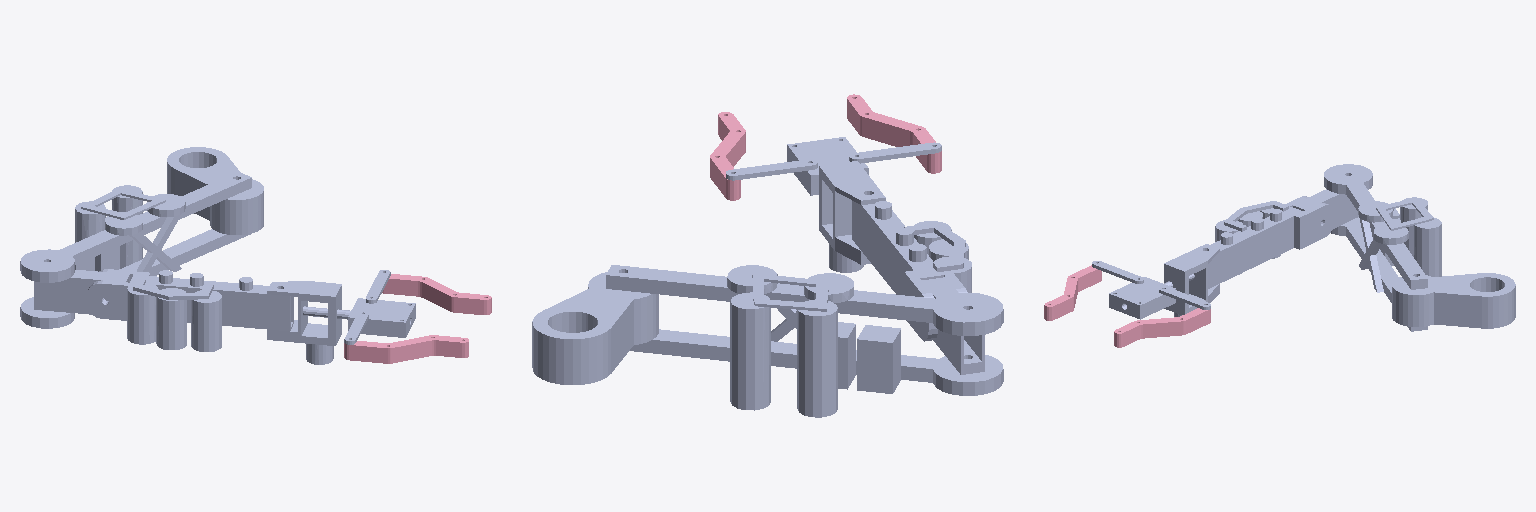
robot.urdf — brc_arm_description:
<?xml version="1.0" encoding="utf-8"?>
<!-- This URDF was automatically created by SolidWorks to URDF Exporter! Originally created by [author] ([email redacted]) 
     Commit Version: 1.6.0-4-g7f85cfe  Build Version: 1.6.7995.38578
     For more information, please see http://wiki.ros.org/sw_urdf_exporter -->
<robot
  name="brc_arm_description">
  <link
    name="base_link">
    <inertial>
      <origin
        xyz="-0.2365 -0.11407 0.091275"
        rpy="0 0 0" />
      <mass
        value="127.99" />
      <inertia
        ixx="11.646"
        ixy="0.74605"
        ixz="0.11702"
        iyy="17.633"
        iyz="0.24149"
        izz="13.254" />
    </inertial>
    <visual>
      <origin
        xyz="0 0 0"
        rpy="0 0 0" />
      <geometry>
        <mesh
          filename="package://brc_arm_description/meshes/base_link.STL" />
      </geometry>
      <material
        name="">
        <color
          rgba="0.79216 0.81961 0.93333 1" />
      </material>
    </visual>
    <collision>
      <origin
        xyz="0 0 0"
        rpy="0 0 0" />
      <geometry>
        <mesh
          filename="package://brc_arm_description/meshes/base_link.STL" />
      </geometry>
    </collision>
  </link>
  <link
    name="carriage_link">
    <inertial>
      <origin
        xyz="2.5422E-18 0.025 0.053905"
        rpy="0 0 0" />
      <mass
        value="0.44772" />
      <inertia
        ixx="0.001099"
        ixy="8.147E-21"
        ixz="1.4734E-20"
        iyy="0.0011932"
        iyz="-4.9973E-22"
        izz="0.00028077" />
    </inertial>
    <visual>
      <origin
        xyz="0 0 0"
        rpy="0 0 0" />
      <geometry>
        <mesh
          filename="package://brc_arm_description/meshes/carriage_link.STL" />
      </geometry>
      <material
        name="">
        <color
          rgba="0.79216 0.81961 0.93333 1" />
      </material>
    </visual>
    <collision>
      <origin
        xyz="0 0 0"
        rpy="0 0 0" />
      <geometry>
        <mesh
          filename="package://brc_arm_description/meshes/carriage_link.STL" />
      </geometry>
    </collision>
  </link>
  <joint
    name="carriage_joint"
    type="prismatic">
    <origin
      xyz="0 0 0.065"
      rpy="1.5708 0 0" />
    <parent
      link="base_link" />
    <child
      link="carriage_link" />
    <axis
      xyz="0 1 0" />
    <limit
      lower="0"
      upper="0.885"
      effort="0"
      velocity="0" />
    <command_interface name="position" />
    <command_interface name="velocity" />
    <state_interface name="position">
      <!-- <param name="initial_value">${initial_positions['carriage_joint']}</param> -->
    </state_interface>
    <state_interface name="velocity" />
  </joint>
  <link
    name="midarm1_link">
    <inertial>
      <origin
        xyz="-0.20356 0.024067 -0.023364"
        rpy="0 0 0" />
      <mass
        value="0.8362" />
      <inertia
        ixx="0.0015195"
        ixy="-0.00010292"
        ixz="0.00024052"
        iyy="0.007027"
        iyz="-9.3176E-05"
        izz="0.0071837" />
    </inertial>
    <visual>
      <origin
        xyz="0 0 0"
        rpy="0 0 0" />
      <geometry>
        <mesh
          filename="package://brc_arm_description/meshes/midarm1_link.STL" />
      </geometry>
      <material
        name="">
        <color
          rgba="0.79216 0.81961 0.93333 1" />
      </material>
    </visual>
    <collision>
      <origin
        xyz="0 0 0"
        rpy="0 0 0" />
      <geometry>
        <mesh
          filename="package://brc_arm_description/meshes/midarm1_link.STL" />
      </geometry>
    </collision>
  </link>
  <joint
    name="midarm1_joint"
    type="revolute">
    <origin
      xyz="0 0 0.1"
      rpy="0 0.2793 0" />
    <parent
      link="carriage_link" />
    <child
      link="midarm1_link" />
    <axis
      xyz="0 1 0" />
    <limit
      lower="0"
      upper="2.7423"
      effort="0"
      velocity="0" />
    <command_interface name="position" />
    <command_interface name="velocity" />
    <state_interface name="position">
      <!-- <param name="initial_value">${initial_positions['midarm1_joint']}</param> -->
    </state_interface>
    <state_interface name="velocity" />
  </joint>
  <link
    name="midarm2_link">
    <inertial>
      <origin
        xyz="0.0437798591057959 0.0206817493001328 2.4980018054066E-16"
        rpy="0 0 0" />
      <mass
        value="0.0646775902886998" />
      <inertia
        ixx="2.3728145359128E-05"
        ixy="-1.49350689133807E-06"
        ixz="1.33407689192552E-19"
        iyy="7.7948360762991E-05"
        iyz="1.18849310411619E-20"
        izz="9.1312862306253E-05" />
    </inertial>
    <visual>
      <origin
        xyz="0 0 0"
        rpy="0 0 0" />
      <geometry>
        <mesh
          filename="package://brc_arm_description/meshes/midarm2_link.STL" />
      </geometry>
      <material
        name="">
        <color
          rgba="0.792156862745098 0.819607843137255 0.933333333333333 1" />
      </material>
    </visual>
    <collision>
      <origin
        xyz="0 0 0"
        rpy="0 0 0" />
      <geometry>
        <mesh
          filename="package://brc_arm_description/meshes/midarm2_link.STL" />
      </geometry>
    </collision>
  </link>
  <joint
    name="midarm2_joint"
    type="revolute">
    <origin
      xyz="-0.35 0 0"
      rpy="0 -1.000 0" />
    <parent
      link="midarm1_link" />
    <child
      link="midarm2_link" />
    <axis
      xyz="0 1 0" />
    <limit
      lower="-4.7124"
      upper="0"
      effort="0"
      velocity="0" />
    <command_interface name="position" />
    <command_interface name="velocity" />
    <state_interface name="position">
      <!-- <param name="initial_value">${initial_positions['midarm2_joint']}</param> -->
    </state_interface>
    <state_interface name="velocity" />
  </joint>
  <link
    name="wrist1_link">
    <inertial>
      <origin
        xyz="0.0903131624724207 -0.00462740982819057 0.0208801756228061"
        rpy="0 0 0" />
      <mass
        value="0.419666572951629" />
      <inertia
        ixx="0.000346854880152641"
        ixy="2.70709984964626E-06"
        ixz="-5.02615984609935E-05"
        iyy="0.00143713508844135"
        iyz="3.62665449634077E-05"
        izz="0.00143304792270374" />
    </inertial>
    <visual>
      <origin
        xyz="0 0 0"
        rpy="0 0 0" />
      <geometry>
        <mesh
          filename="package://brc_arm_description/meshes/wrist1_link.STL" />
      </geometry>
      <material
        name="">
        <color
          rgba="0.792156862745098 0.819607843137255 0.933333333333333 1" />
      </material>
    </visual>
    <collision>
      <origin
        xyz="0 0 0"
        rpy="0 0 0" />
      <geometry>
        <mesh
          filename="package://brc_arm_description/meshes/wrist1_link.STL" />
      </geometry>
    </collision>
  </link>
  <joint
    name="wrist1_joint"
    type="revolute">
    <origin
      xyz="0.08 0.025 0"
      rpy="0 0 0" />
    <parent
      link="midarm2_link" />
    <child
      link="wrist1_link" />
    <axis
      xyz="0 0 1" />
    <limit
      lower="-1.57"
      upper="0.523"
      effort="0"
      velocity="0" />
    <command_interface name="position" />
    <command_interface name="velocity" />
    <state_interface name="position">
      <!-- <param name="initial_value">${initial_positions['wrist1_joint']}</param> -->
    </state_interface>
    <state_interface name="velocity" />
  </joint>
  <link
    name="wrist2_link">
    <inertial>
      <origin
        xyz="0.043767510273945 0.018260701276372 0.0065358362738916"
        rpy="0 0 0" />
      <mass
        value="0.129512939632169" />
      <inertia
        ixx="0.000129578871276748"
        ixy="2.78573307339072E-06"
        ixz="-2.66314903931951E-06"
        iyy="8.51895227169166E-05"
        iyz="-9.11411436035313E-07"
        izz="0.000185624075448265" />
    </inertial>
    <visual>
      <origin
        xyz="0 0 0"
        rpy="0 0 0" />
      <geometry>
        <mesh
          filename="package://brc_arm_description/meshes/wrist2_link.STL" />
      </geometry>
      <material
        name="">
        <color
          rgba="0.792156862745098 0.819607843137255 0.933333333333333 1" />
      </material>
    </visual>
    <collision>
      <origin
        xyz="0 0 0"
        rpy="0 0 0" />
      <geometry>
        <mesh
          filename="package://brc_arm_description/meshes/wrist2_link.STL" />
      </geometry>
    </collision>
  </link>
  <joint
    name="wrist2_joint"
    type="revolute">
    <origin
      xyz="0.225 0 0"
      rpy="0 -3.1241 3.1416" />
    <parent
      link="wrist1_link" />
    <child
      link="wrist2_link" />
    <axis
      xyz="0 1 0" />
    <limit
      lower="-1.9024"
      upper="2.2626"
      effort="0"
      velocity="0" />
    <command_interface name="position" />
    <command_interface name="velocity" />
    <state_interface name="position">
      <!-- <param name="initial_value">${initial_positions['wrist2_joint']}</param> -->
    </state_interface>
    <state_interface name="velocity" />
  </joint>
  <link
    name="EEbase_link">
    <inertial>
      <origin
        xyz="2.4980018054066E-16 -2.51187959321442E-15 -0.0327794628998193"
        rpy="0 0 0" />
      <mass
        value="0.0926044760959502" />
      <inertia
        ixx="4.81318826783348E-05"
        ixy="-1.57510711271281E-20"
        ixz="2.37169225231204E-20"
        iyy="7.32482359165231E-05"
        iyz="-9.81194031396023E-20"
        izz="3.29932559448168E-05" />
    </inertial>
    <visual>
      <origin
        xyz="0 0 0"
        rpy="0 0 0" />
      <geometry>
        <mesh
          filename="package://brc_arm_description/meshes/EEbase_link.STL" />
      </geometry>
      <material
        name="">
        <color
          rgba="0.792156862745098 0.819607843137255 0.933333333333333 1" />
      </material>
    </visual>
    <collision>
      <origin
        xyz="0 0 0"
        rpy="0 0 0" />
      <geometry>
        <mesh
          filename="package://brc_arm_description/meshes/EEbase_link.STL" />
      </geometry>
    </collision>
  </link>
  <joint
    name="EEbase_joint"
    type="continuous">
    <origin
      xyz="0.10009 0 0"
      rpy="0 -1.5708 0" />
    <parent
      link="wrist2_link" />
    <child
      link="EEbase_link" />
    <axis
      xyz="0 0 1" />
    <command_interface name="position" />
    <command_interface name="velocity" />
    <state_interface name="position">
      <!-- <param name="initial_value">${initial_positions['EEbase_joint']}</param> -->
    </state_interface>
    <state_interface name="velocity" />
  </joint>
  <link
    name="Rlink_link">
    <inertial>
      <origin
        xyz="0.04 -0.00249999999998814 0"
        rpy="0 0 0" />
      <mass
        value="0.00668722339297278" />
      <inertia
        ixx="1.38550163626324E-07"
        ixy="2.87147608995584E-21"
        ixz="-8.50341669704512E-21"
        iyy="4.66129432520503E-06"
        iyz="-3.29637280409798E-22"
        izz="4.55060759238276E-06" />
    </inertial>
    <visual>
      <origin
        xyz="0 0 0"
        rpy="0 0 0" />
      <geometry>
        <mesh
          filename="package://brc_arm_description/meshes/Rlink_link.STL" />
      </geometry>
      <material
        name="">
        <color
          rgba="0.792156862745098 0.819607843137255 0.933333333333333 1" />
      </material>
    </visual>
    <collision>
      <origin
        xyz="0 0 0"
        rpy="0 0 0" />
      <geometry>
        <mesh
          filename="package://brc_arm_description/meshes/Rlink_link.STL" />
      </geometry>
    </collision>
  </link>
  <joint
    name="Rlink_joint"
    type="revolute">
    <origin
      xyz="0.0240000000000002 -0.0110000000000023 -0.0140949701532811"
      rpy="0 0 0" />
    <parent
      link="EEbase_link" />
    <child
      link="Rlink_link" />
    <axis
      xyz="0 1 0" />
    <limit
      lower="0"
      upper="1.30"
      effort="0"
      velocity="0" />
    <command_interface name="position" />
    <command_interface name="velocity" />
    <state_interface name="position">
      <!-- <param name="initial_value">${initial_positions['Rlink_joint']}</param> -->
    </state_interface>
    <state_interface name="velocity" />
  </joint>
  <link
    name="Rfinger_link">
    <inertial>
      <origin
        xyz="0.0174831476155699 0.0707338411471632 -0.0110000000000118"
        rpy="0 0 0" />
      <mass
        value="0.052748844949343" />
      <inertia
        ixx="9.60936833531591E-05"
        ixy="-3.36352218446777E-05"
        ixz="3.61752768954145E-20"
        iyy="1.68927505422671E-05"
        iyz="8.41699531256108E-20"
        izz="0.000108731360402846" />
    </inertial>
    <visual>
      <origin
        xyz="0 0 0"
        rpy="0 0 0" />
      <geometry>
        <mesh
          filename="package://brc_arm_description/meshes/Rfinger_link.STL" />
      </geometry>
      <material
        name="">
        <color
          rgba="1 0.717647058823529 0.819607843137255 1" />
      </material>
    </visual>
    <collision>
      <origin
        xyz="0 0 0"
        rpy="0 0 0" />
      <geometry>
        <mesh
          filename="package://brc_arm_description/meshes/Rfinger_link.STL" />
      </geometry>
    </collision>
  </link>
  <joint
    name="Rfinger_joint"
    type="continuous">
    <origin
      xyz="0.0799999999999999 0 0"
      rpy="-1.5707963267949 0 -3.14159265358978" />
    <parent
      link="Rlink_link" />
    <child
      link="Rfinger_link" />
    <axis
      xyz="0 0 1" />
    <mimic
      joint="Rlink_joint"
      multiplier="1"
      offset="0" />
  </joint>
  <link
    name="Llink_link">
    <inertial>
      <origin
        xyz="-0.0399999999999926 -0.00249999999998818 -1.94289029309402E-15"
        rpy="0 0 0" />
      <mass
        value="0.00668722339297278" />
      <inertia
        ixx="1.38550163626324E-07"
        ixy="-2.82678766014272E-21"
        ixz="-8.30158462758219E-21"
        iyy="4.66129432520503E-06"
        iyz="-2.67304238201667E-22"
        izz="4.55060759238276E-06" />
    </inertial>
    <visual>
      <origin
        xyz="0 0 0"
        rpy="0 0 0" />
      <geometry>
        <mesh
          filename="package://brc_arm_description/meshes/Llink_link.STL" />
      </geometry>
      <material
        name="">
        <color
          rgba="0.792156862745098 0.819607843137255 0.933333333333333 1" />
      </material>
    </visual>
    <collision>
      <origin
        xyz="0 0 0"
        rpy="0 0 0" />
      <geometry>
        <mesh
          filename="package://brc_arm_description/meshes/Llink_link.STL" />
      </geometry>
    </collision>
  </link>
  <joint
    name="Llink_joint"
    type="continuous">
    <origin
      xyz="-0.0239999999999998 -0.0110000000000022 -0.0140949701532812"
      rpy="0 0 0" />
    <parent
      link="EEbase_link" />
    <child
      link="Llink_link" />
    <axis
      xyz="0 1 0" />
    <mimic
      joint="Rlink_joint"
      multiplier="-1"
      offset="0" />
  </joint>
  <link
    name="Lfinger_link">
    <inertial>
      <origin
        xyz="0.0174831476155701 0.0707338411471614 0.0110000000000118"
        rpy="0 0 0" />
      <mass
        value="0.052748844949343" />
      <inertia
        ixx="9.60936833531592E-05"
        ixy="-3.36352218446776E-05"
        ixz="1.1676008726569E-20"
        iyy="1.6892750542267E-05"
        iyz="3.01094951269791E-20"
        izz="0.000108731360402846" />
    </inertial>
    <visual>
      <origin
        xyz="0 0 0"
        rpy="0 0 0" />
      <geometry>
        <mesh
          filename="package://brc_arm_description/meshes/Lfinger_link.STL" />
      </geometry>
      <material
        name="">
        <color
          rgba="1 0.717647058823529 0.819607843137255 1" />
      </material>
    </visual>
    <collision>
      <origin
        xyz="0 0 0"
        rpy="0 0 0" />
      <geometry>
        <mesh
          filename="package://brc_arm_description/meshes/Lfinger_link.STL" />
      </geometry>
    </collision>
  </link>
  <joint
    name="Lfinger_joint"
    type="continuous">
    <origin
      xyz="-0.08 0 0"
      rpy="-1.5707963267949 0 0" />
    <parent
      link="Llink_link" />
    <child
      link="Lfinger_link" />
    <axis
      xyz="0 0 1" />
    <mimic
      joint="Llink_joint"
      multiplier="-1"
      offset="0" />
  </joint>
</robot>

--- Render facts (derived) ---
3 views of the same robot in one strip: view 1: azimuth 30°, elevation 25°; view 2: azimuth 150°, elevation 25°; view 3: azimuth 270°, elevation 25° (orthographic).
Model brc_arm_description with 11 links and 10 joints (5 revolute, 4 continuous, 1 prismatic), rooted at base_link, posed every joint at zero.
Visible links, largest first — view 1: midarm1_link, wrist1_link, carriage_link, wrist2_link, Lfinger_link, Rfinger_link, midarm2_link, EEbase_link; view 2: midarm1_link, carriage_link, wrist1_link, wrist2_link, Lfinger_link, Rfinger_link, midarm2_link, EEbase_link, Rlink_link, Llink_link; view 3: midarm1_link, wrist1_link, carriage_link, wrist2_link, Rfinger_link, EEbase_link, Lfinger_link, midarm2_link.
Link boxes in pixels (x1,y1,x2,y2): midarm1_link: [20, 172, 251, 328]; wrist1_link: [86, 269, 293, 351]; carriage_link: [167, 147, 263, 234]; wrist2_link: [267, 281, 350, 364]; Lfinger_link: [344, 335, 468, 363]; Rfinger_link: [382, 274, 491, 314]; midarm2_link: [34, 270, 129, 314]; EEbase_link: [348, 298, 415, 337]; midarm1_link: [606, 265, 1003, 417]; carriage_link: [532, 272, 658, 384]; wrist1_link: [852, 201, 971, 341]; wrist2_link: [819, 161, 885, 272]; Lfinger_link: [847, 94, 941, 173]; Rfinger_link: [710, 112, 745, 200]; midarm2_link: [922, 277, 984, 374]; EEbase_link: [787, 137, 868, 195]; Rlink_link: [726, 159, 817, 180]; Llink_link: [849, 142, 941, 163]; midarm1_link: [1324, 164, 1441, 331]; wrist1_link: [1208, 196, 1334, 288]; carriage_link: [1392, 273, 1515, 328]; wrist2_link: [1164, 244, 1219, 316]; Rfinger_link: [1114, 308, 1210, 347]; EEbase_link: [1109, 277, 1175, 319]; Lfinger_link: [1044, 265, 1101, 320]; midarm2_link: [1293, 189, 1358, 229].
Size in the robot's own frame: 0.5048 by 0.6657 by 0.123 metres.
10 mesh visuals loaded from 11 distinct referenced files (10 binary STL); not drawn: 1 (reference not matched to a file when rendering).